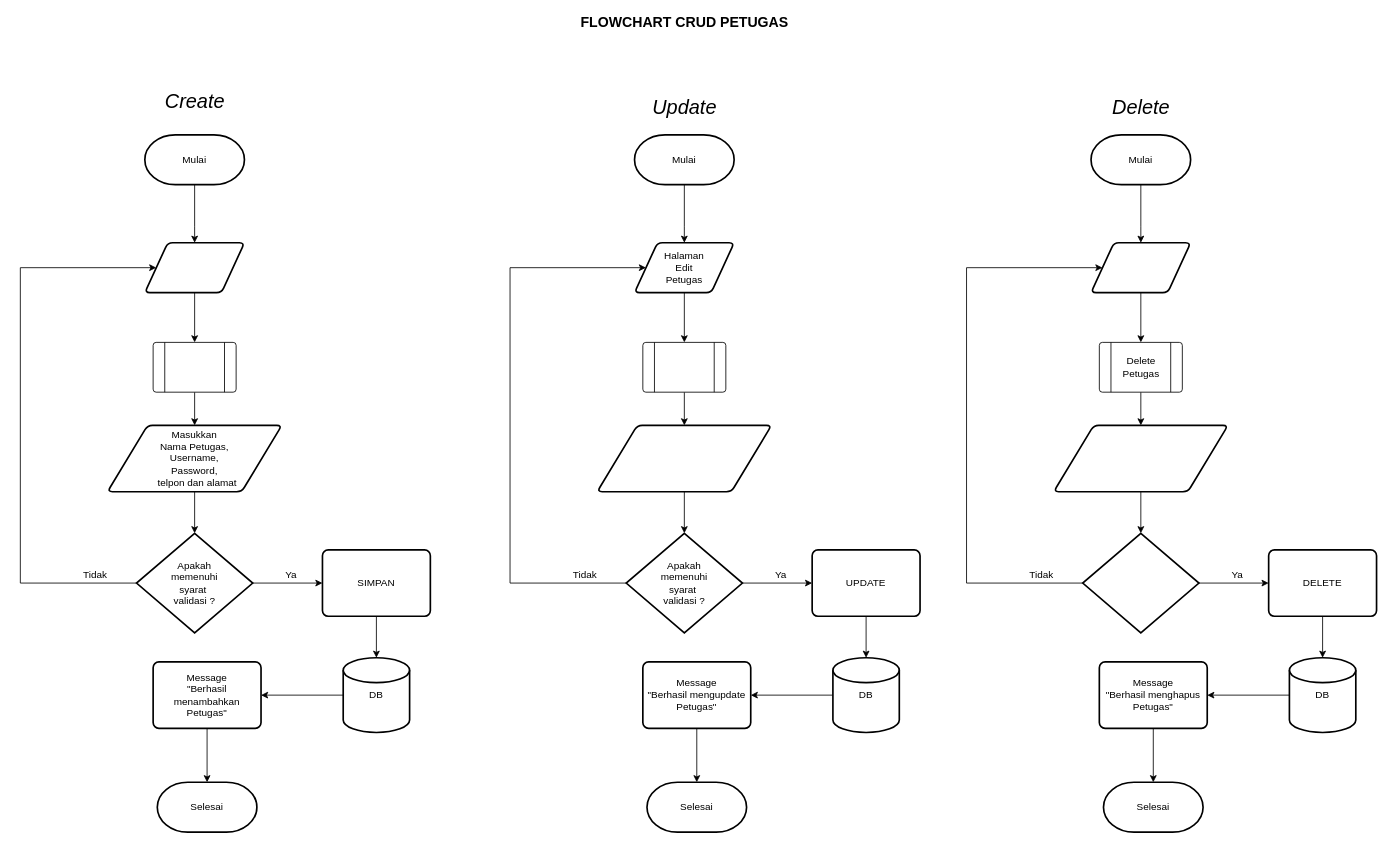
This 1392x847 diagram has some shape labels left out. Each missing label, with the centre of its shape:
"Halaman Data Petugas" goes at point (1140, 267).
"Halaman Tambah Petugas" goes at point (194, 267).
"Insert Petugas" goes at point (194, 367).
"Select ID petugas" goes at point (1140, 458).
"Ubah Nama Petugas, Username, Password, telpon atau alamat" goes at point (684, 458).
"Update Petugas" goes at point (684, 367).
"Yakin akan didelete ?" goes at point (1140, 582).
